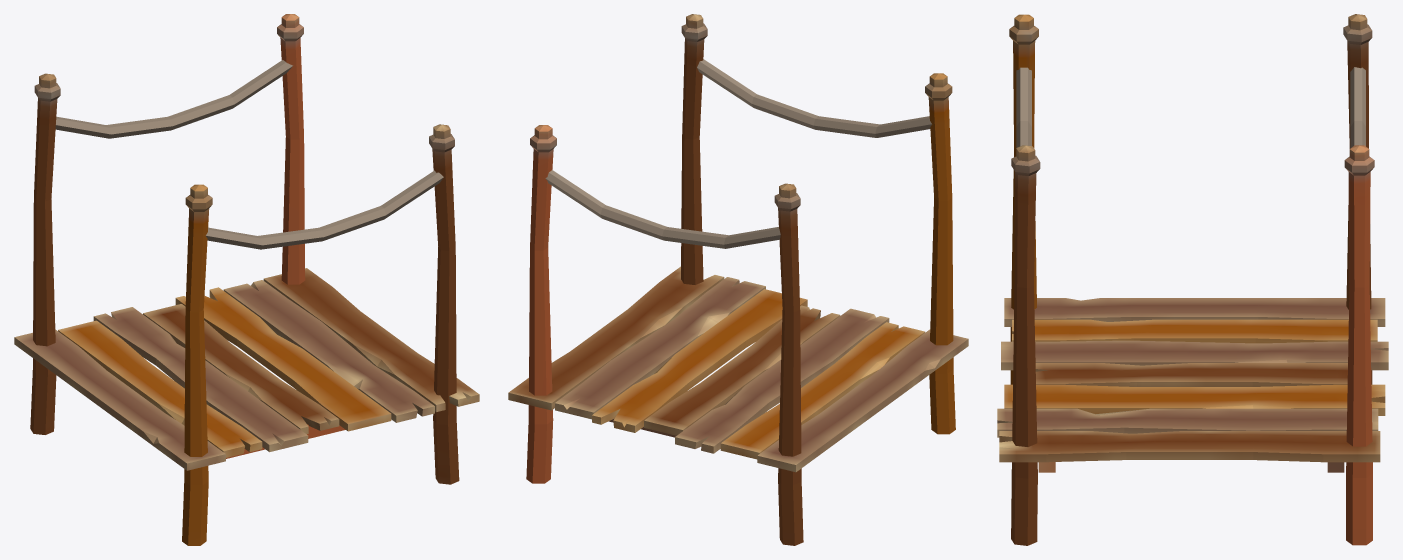
Rendered from kit-jetty.glb.
3 views of the same model, side by side, from view 1: azimuth 30°, elevation 25°; view 2: azimuth 150°, elevation 25°; view 3: azimuth 270°, elevation 25° (orthographic). The views are drawn at different scales.
Visible parts, largest first — view 1: Cube.270; view 2: Cube.270; view 3: Cube.270.
Boxes of the visible parts, x1=… form: Cube.270: x1=14, y1=14, x2=479, y2=545; Cube.270: x1=508, y1=14, x2=968, y2=545; Cube.270: x1=997, y1=14, x2=1388, y2=545.
Size of the model in its own units: 1.2 by 1.4 by 1.27.
Materials: 1 (1 with a texture image).
